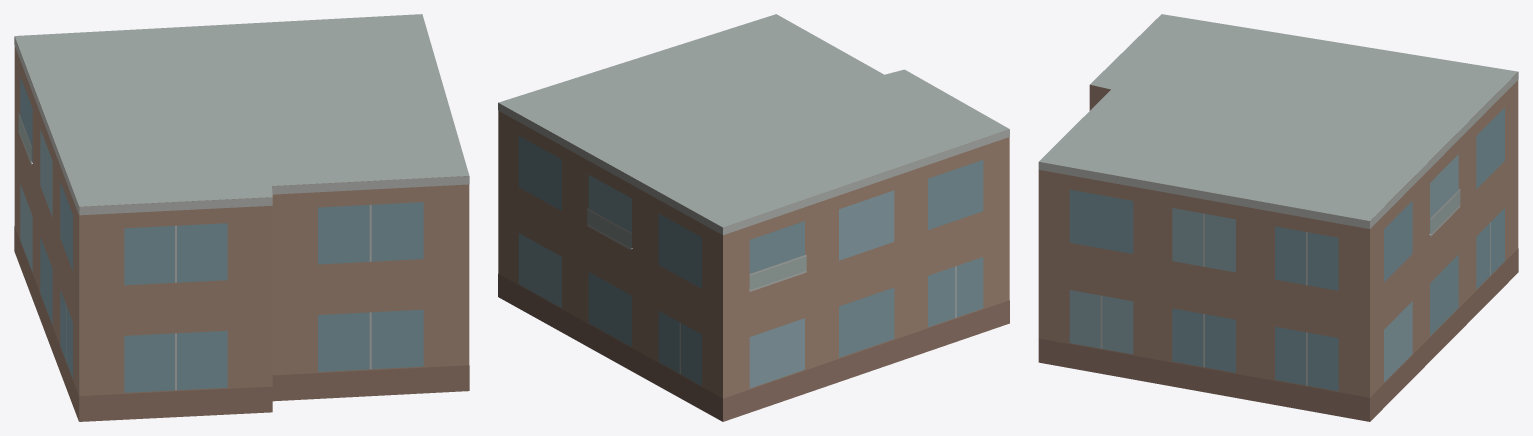
Rendered from survey-upis-32905797.glb.
The picture shows the model from 3 angles, left to right: view 1: azimuth 30°, elevation 25°; view 2: azimuth 150°, elevation 25°; view 3: azimuth 270°, elevation 25°; orthographic projection. The views are drawn at different scales.
Parts seen in each view (by area): view 1: survey-upis-32905797.tmp; view 2: survey-upis-32905797.tmp; view 3: survey-upis-32905797.tmp.
Part boxes in pixels (x1,y1,x2,y2): survey-upis-32905797.tmp: (14, 14, 469, 421); survey-upis-32905797.tmp: (498, 14, 1009, 421); survey-upis-32905797.tmp: (1038, 14, 1518, 421).
Size of the model in its own units: 13.51 by 6.1 by 13.22.
